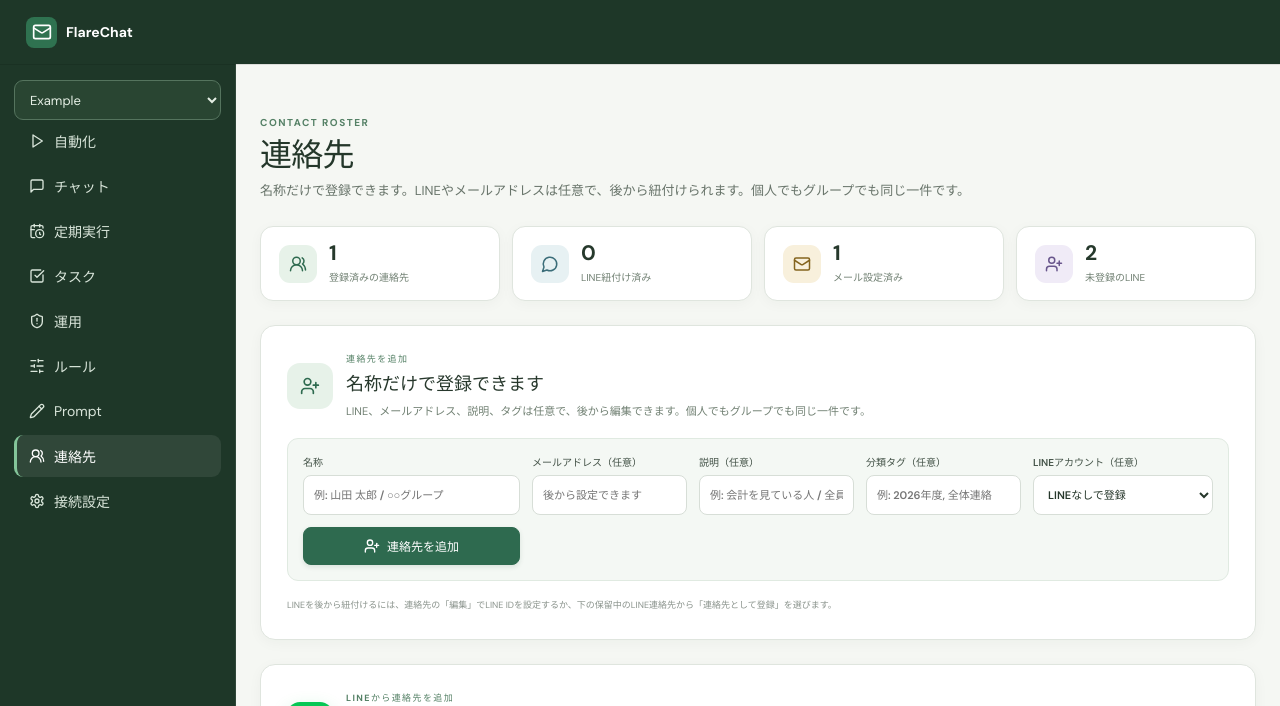
Contacts screen › registers a Contact with a name alone, without a LINE handle or an email
Check: the text "LINEアカウント（任意）" is shown, box top-left (1033, 454), bottom-right (1213, 515)
Check: the dropdown labelled "LINEアカウント（任意）" shows "LINEなしで登録", box top-left (1033, 475), bottom-right (1213, 515)
Type "佐藤 次郎" into the field labelled "名称".
click(412, 495); type("佐藤 次郎")  # box top-left (303, 475), bottom-right (520, 515)
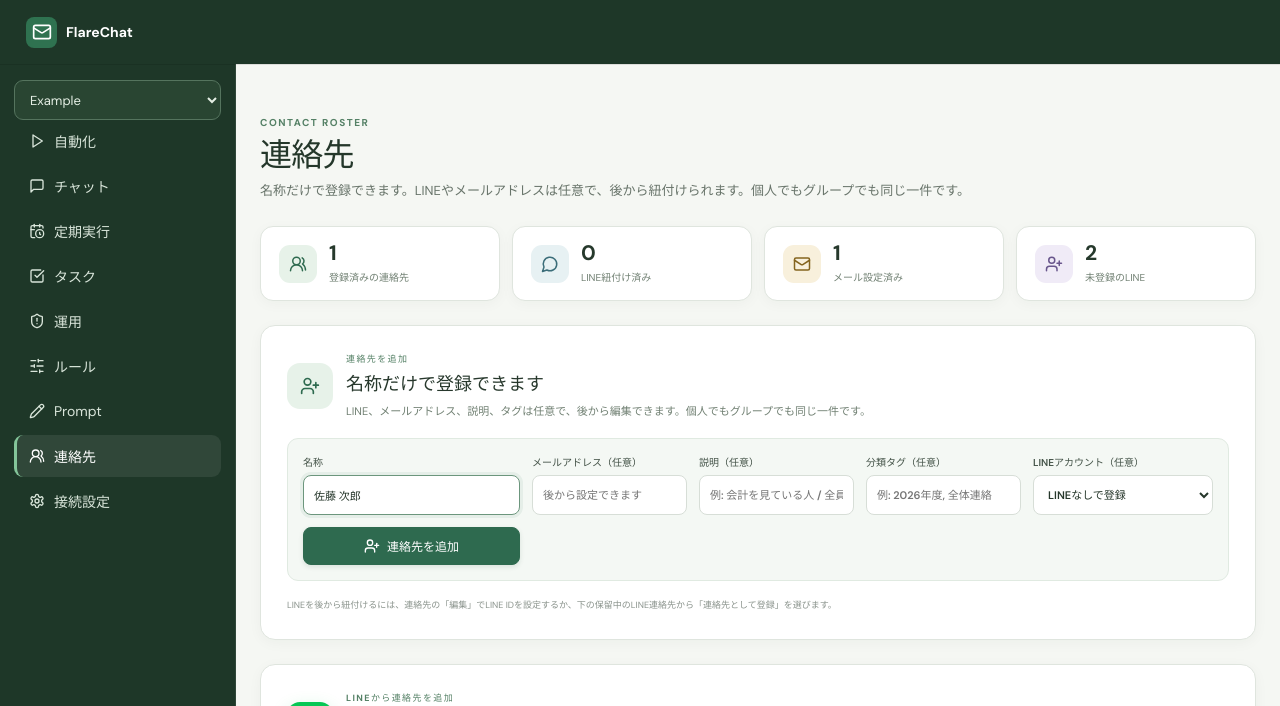
Click the button "連絡先を追加".
click(412, 546)  # box top-left (303, 527), bottom-right (520, 565)
(page scrolled)
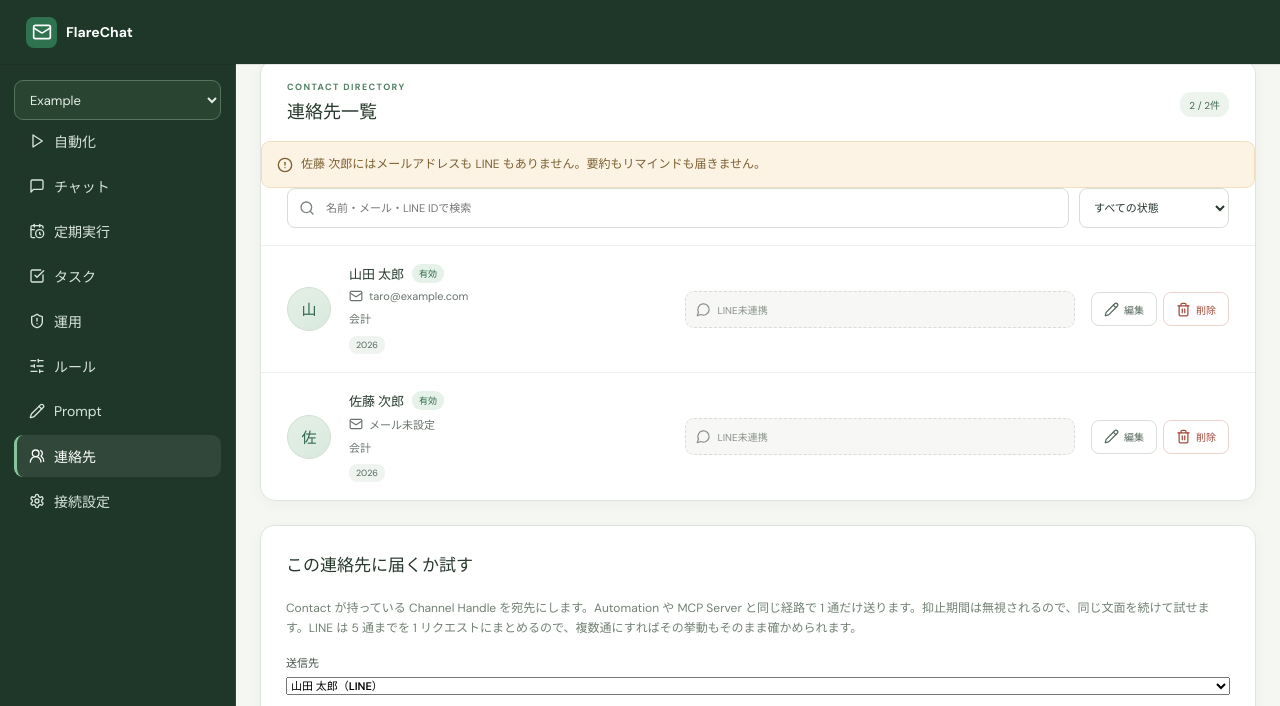
Check: the heading "佐藤 次郎" is shown, box top-left (349, 391), bottom-right (404, 410)
